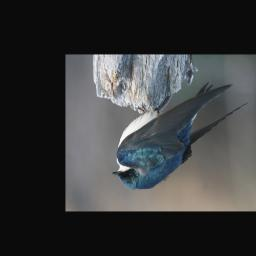Swallow: (113, 82, 250, 190)
